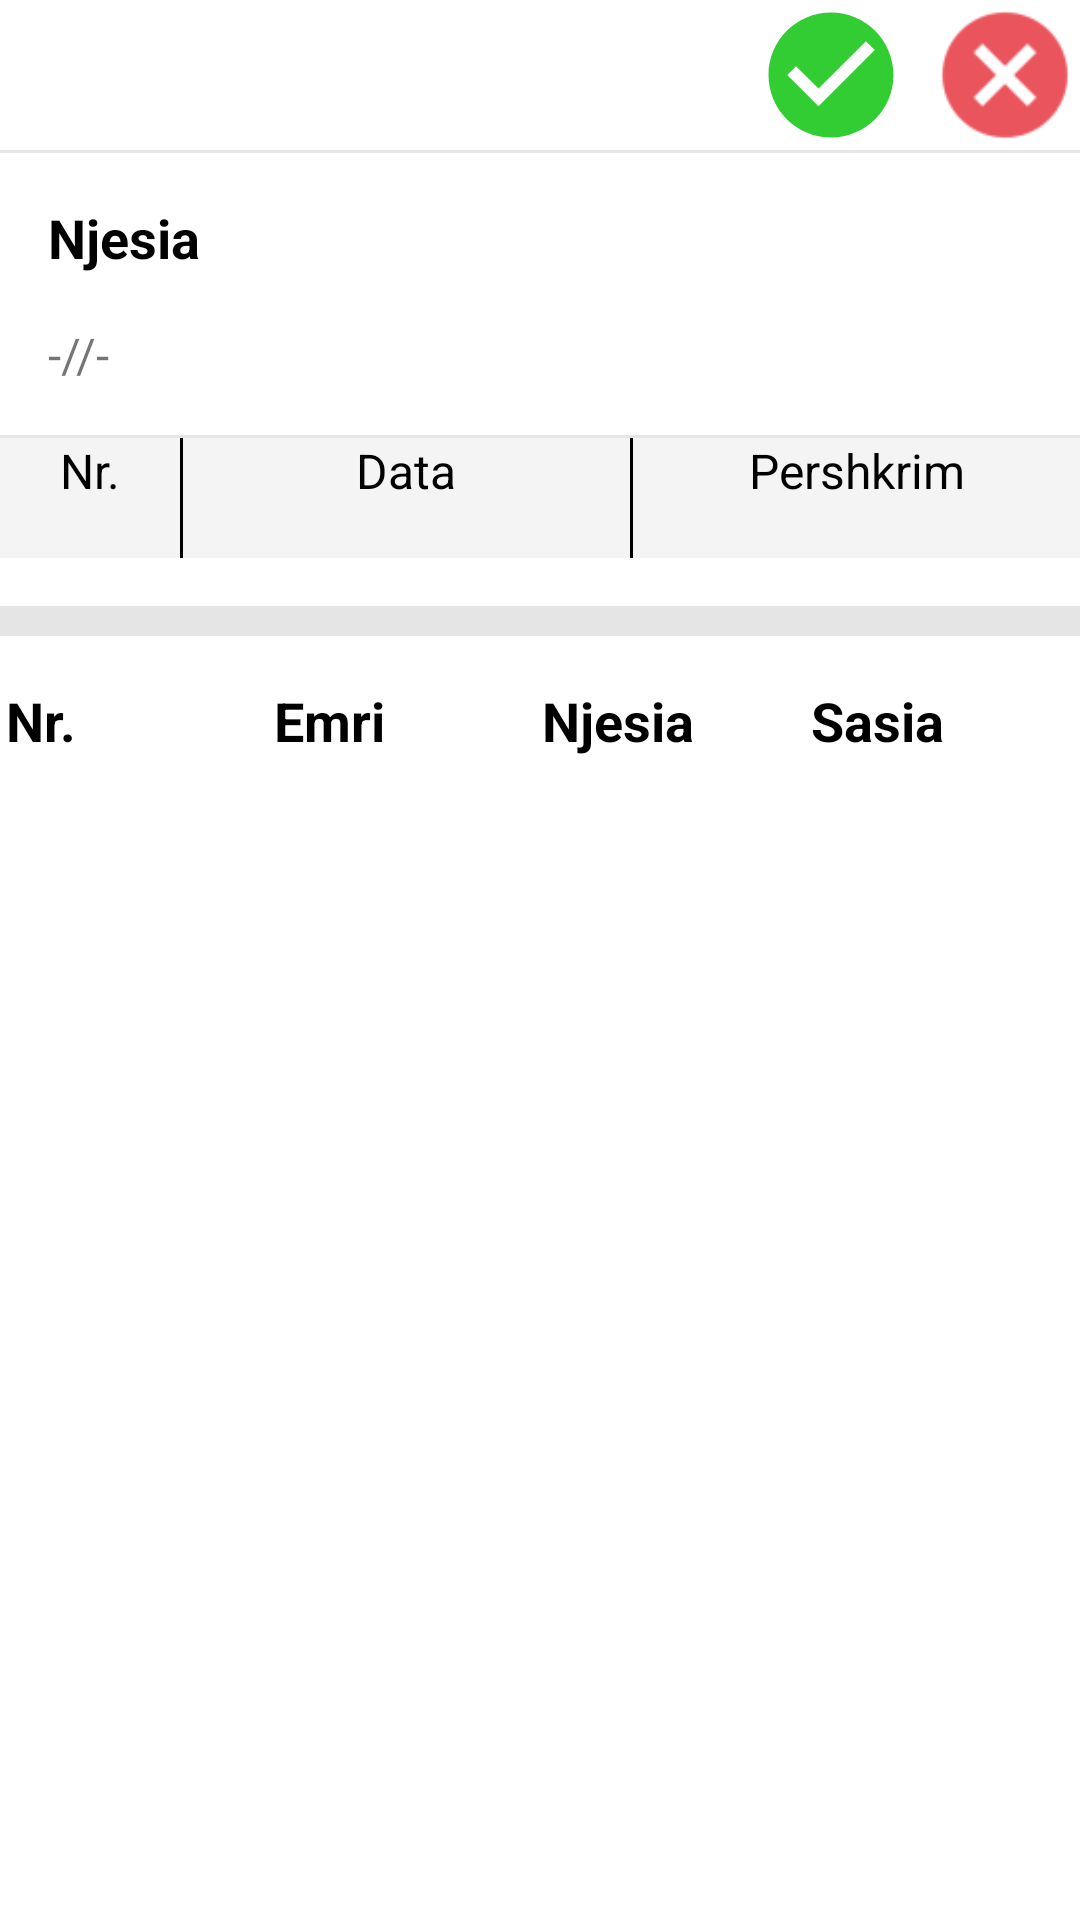

Screen size 1080px x 1920px. Icon name, then its center in pixels as point (x, y):
cancel: point (1005, 75)
check: point (831, 75)
